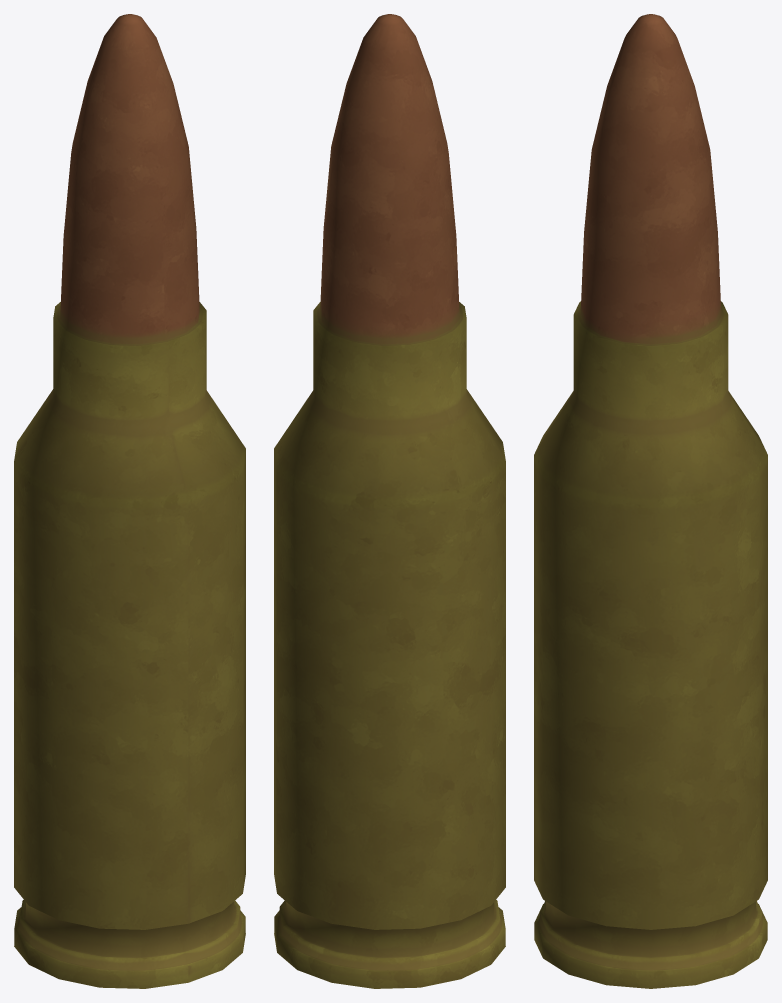
Rendered from bala.glb.
The picture shows the model from 3 angles, left to right: view 1: azimuth 30°, elevation 25°; view 2: azimuth 150°, elevation 25°; view 3: azimuth 270°, elevation 25°; orthographic projection.
Parts seen in each view (by area): view 1: Bala_Low; view 2: Bala_Low; view 3: Bala_Low.
Part boxes in pixels (bbox=[...]): Bala_Low: bbox=[14, 14, 245, 988]; Bala_Low: bbox=[274, 14, 505, 988]; Bala_Low: bbox=[534, 14, 767, 988].
Size of the model in its own units: 0.0181 by 0.0791 by 0.0181.
Materials: 1 (1 with a texture image).
